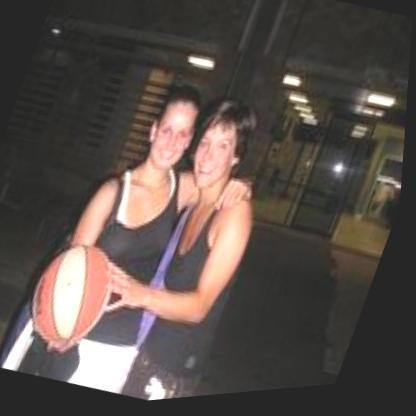basketball: (21, 236, 134, 359)
